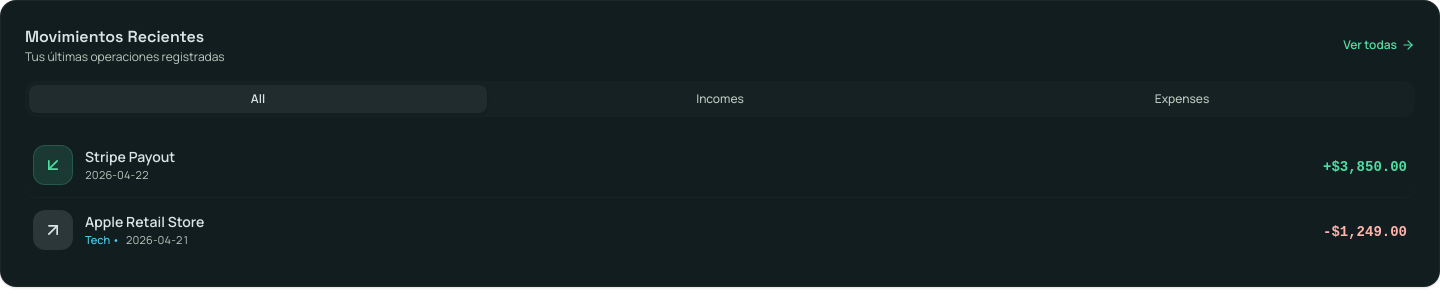
Test: RecentTransactionsWidget › renders recent transactions and filters by tabs
This screenshot has width=1440, height=305.
expect the text "Stripe Payout" is shown: met, box top-left (85, 147), bottom-right (175, 167)
expect the text "Apple Retail Store" is shown: met, box top-left (85, 212), bottom-right (204, 232)
Click the tab "Incomes": (720, 99) top-left (491, 85), bottom-right (949, 113)
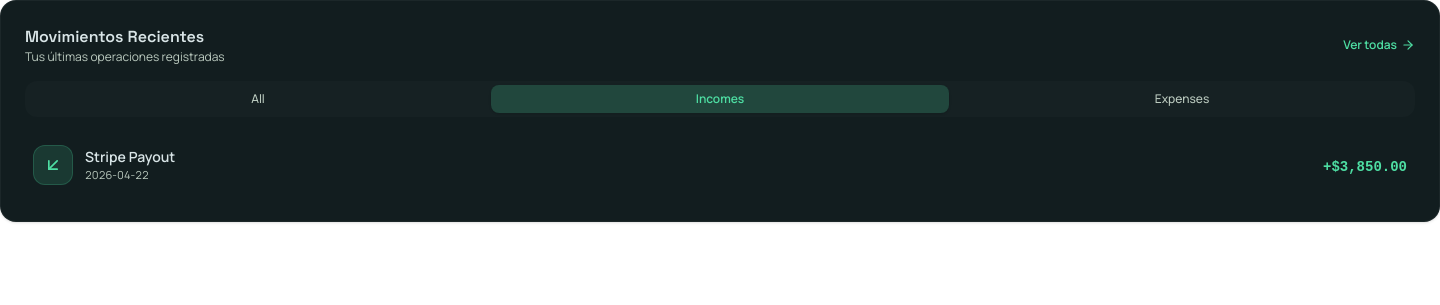
expect the text "Stripe Payout" is shown: met, box top-left (85, 147), bottom-right (175, 167)
expect the text "Apple Retail Store" is gone: met
Click the tab "Expenses": (1182, 99) top-left (953, 85), bottom-right (1411, 113)
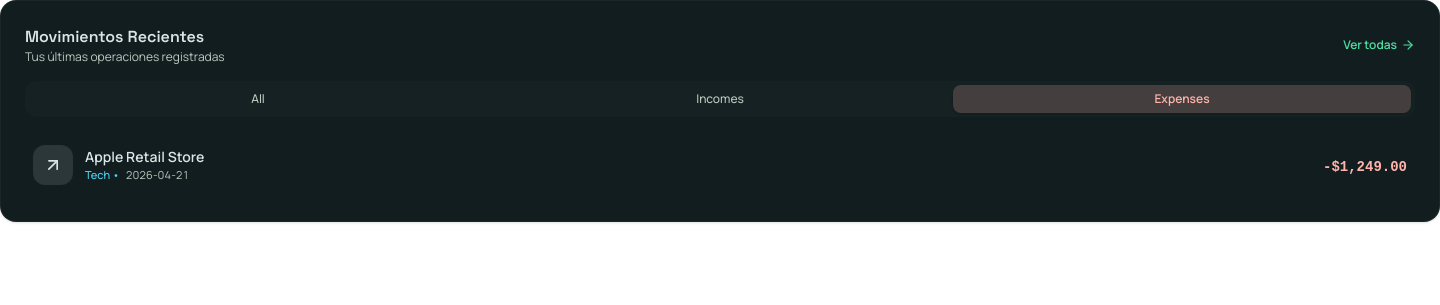
expect the text "Stripe Payout" is gone: met
expect the text "Apple Retail Store" is shown: met, box top-left (85, 147), bottom-right (204, 167)
